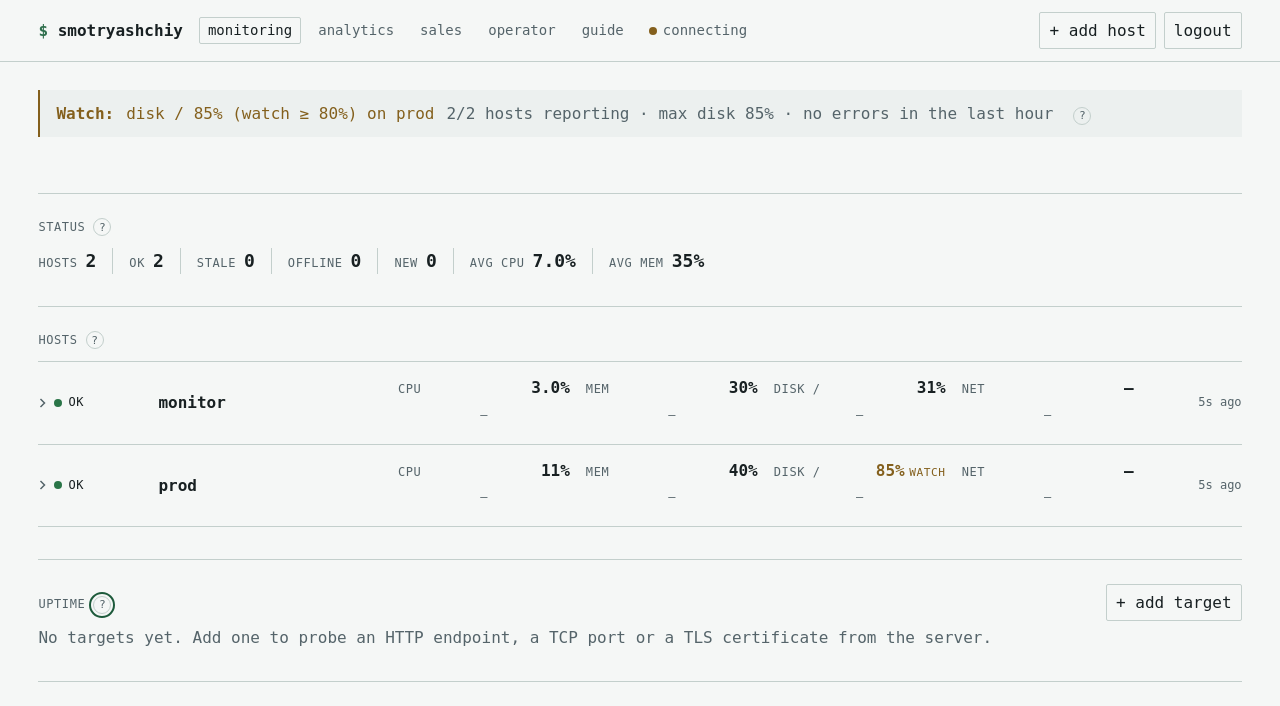
it: "?" help › opens with the keyboard, explains the block and leads to its lesson
The width and height of the screenshot is (1280, 706).
Press Enter
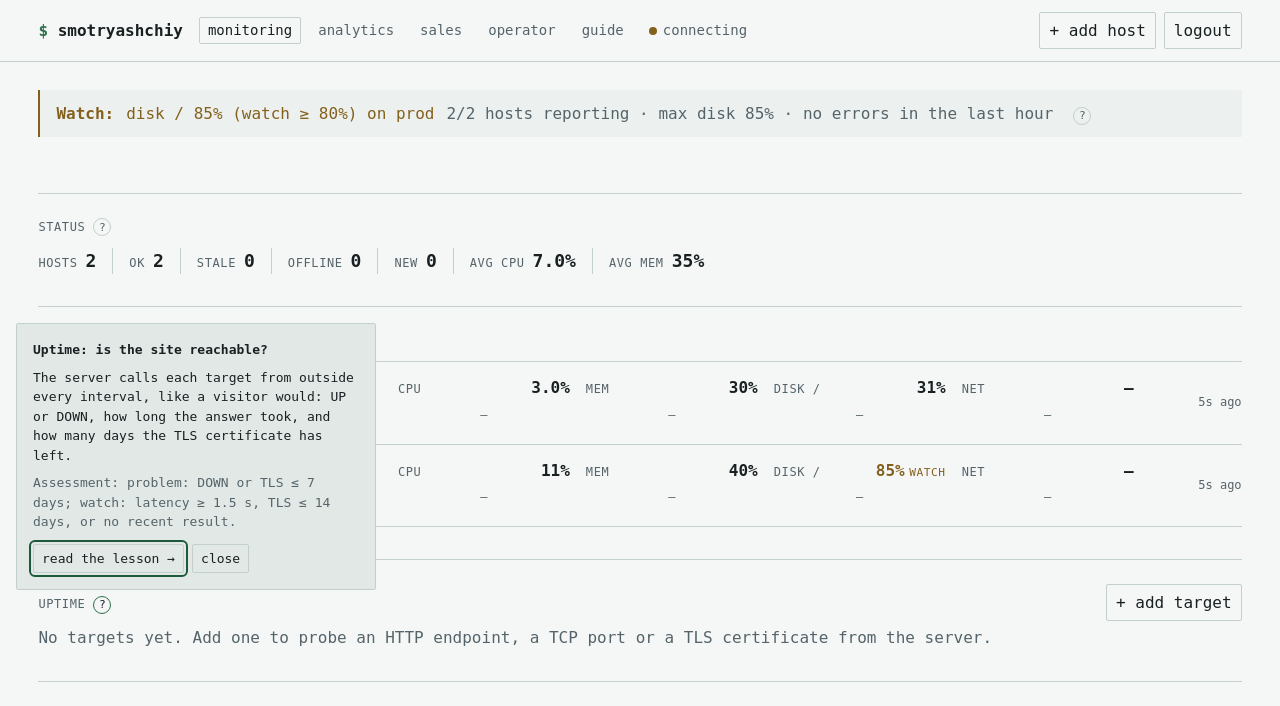
Check: the dialog "Uptime: is the site reachable?" shows "The server calls each target from outside", box [33, 370, 354, 462]
Check: the dialog "Uptime: is the site reachable?" shows "Assessment: problem: DOWN or TLS ≤ 7 days", box [16, 323, 376, 590]
Press Escape
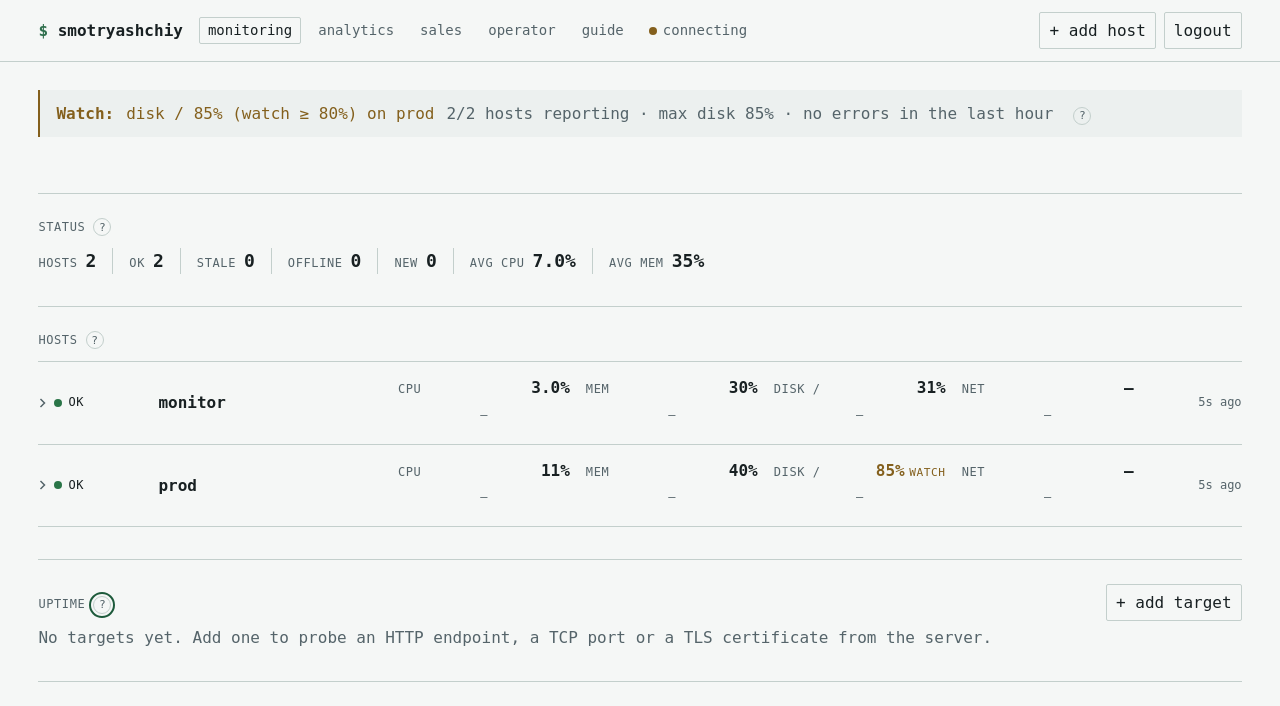
Check: the dialog is gone
Click the button named "What is uptime?" at (102, 604), box [93, 596, 111, 614]
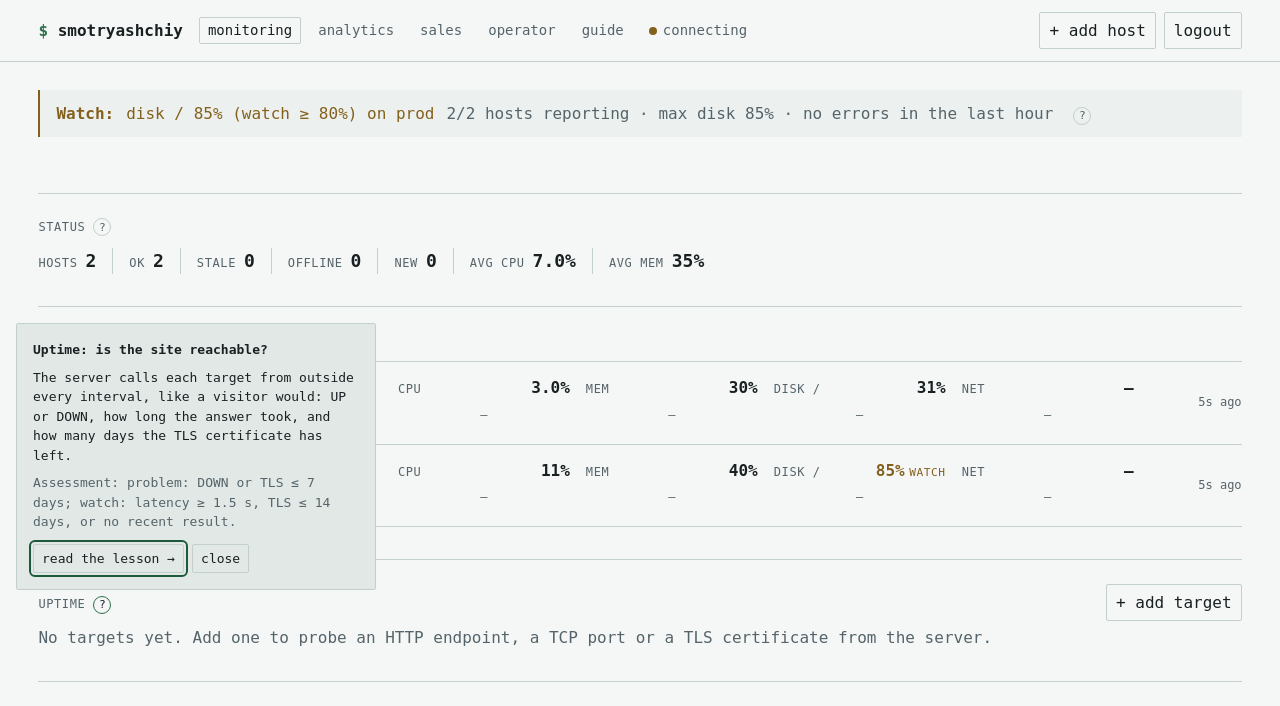
Click the button "read the lesson →" at (109, 558), box [33, 544, 184, 573]
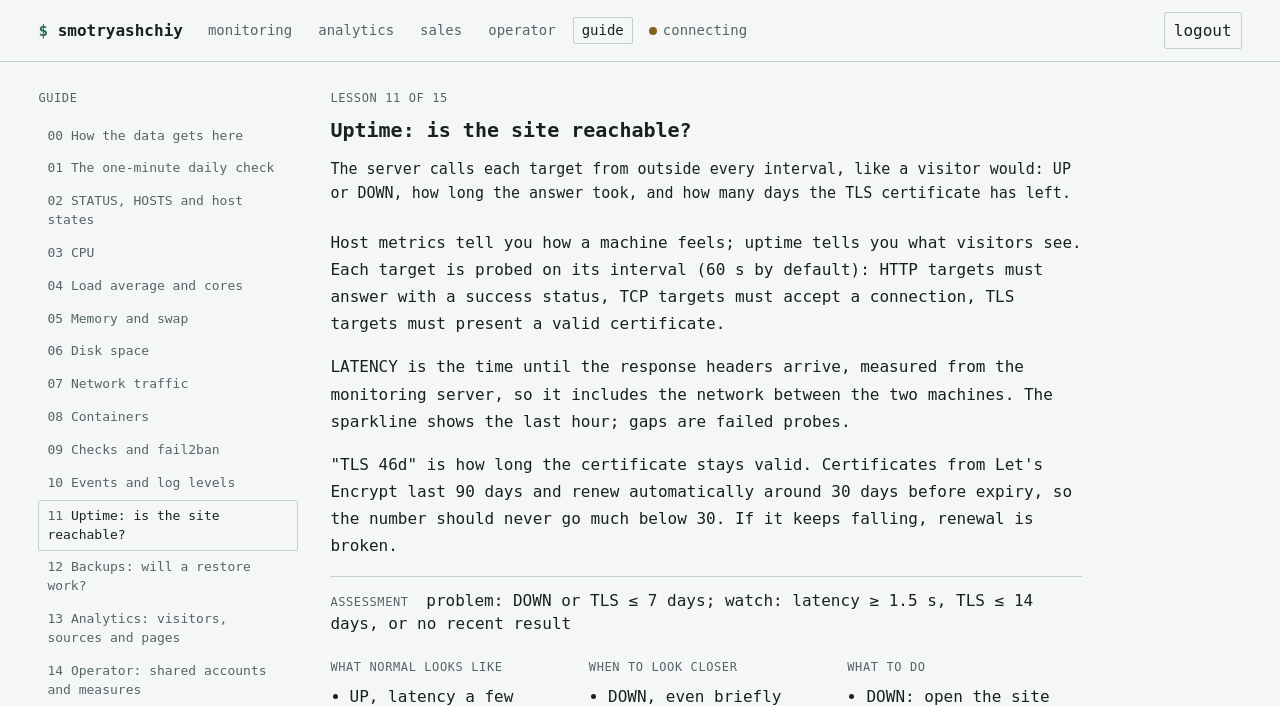
Check: the heading "Uptime: is the site reachable?" is shown, box [330, 118, 692, 142]
